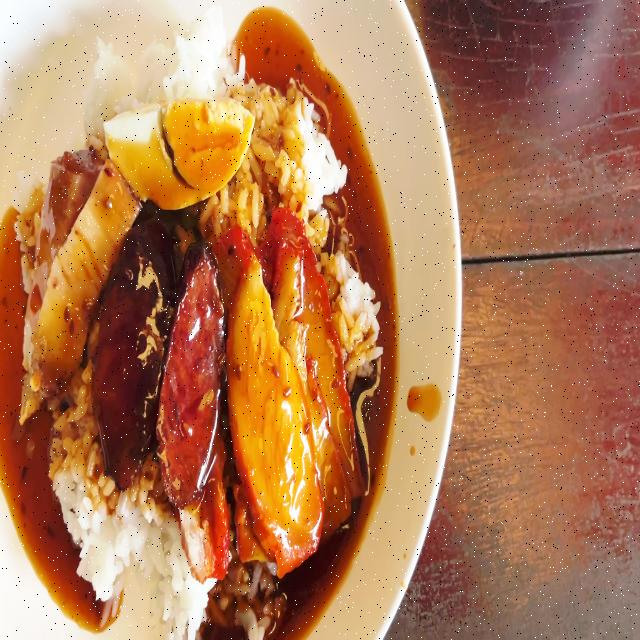boiled_egg: (106, 99, 250, 201)
chainese_sausage: (98, 226, 227, 495), (95, 233, 175, 487), (157, 268, 226, 498)
crispy_pork: (21, 143, 132, 390), (50, 187, 129, 352), (27, 148, 78, 304)
red_pork: (220, 228, 358, 539), (227, 250, 314, 548), (280, 229, 356, 505), (180, 505, 229, 580)
red_pork_and_crispy_pork: (17, 3, 379, 640)
rice: (105, 499, 187, 640), (254, 94, 347, 218), (84, 24, 230, 94), (66, 413, 109, 586)
